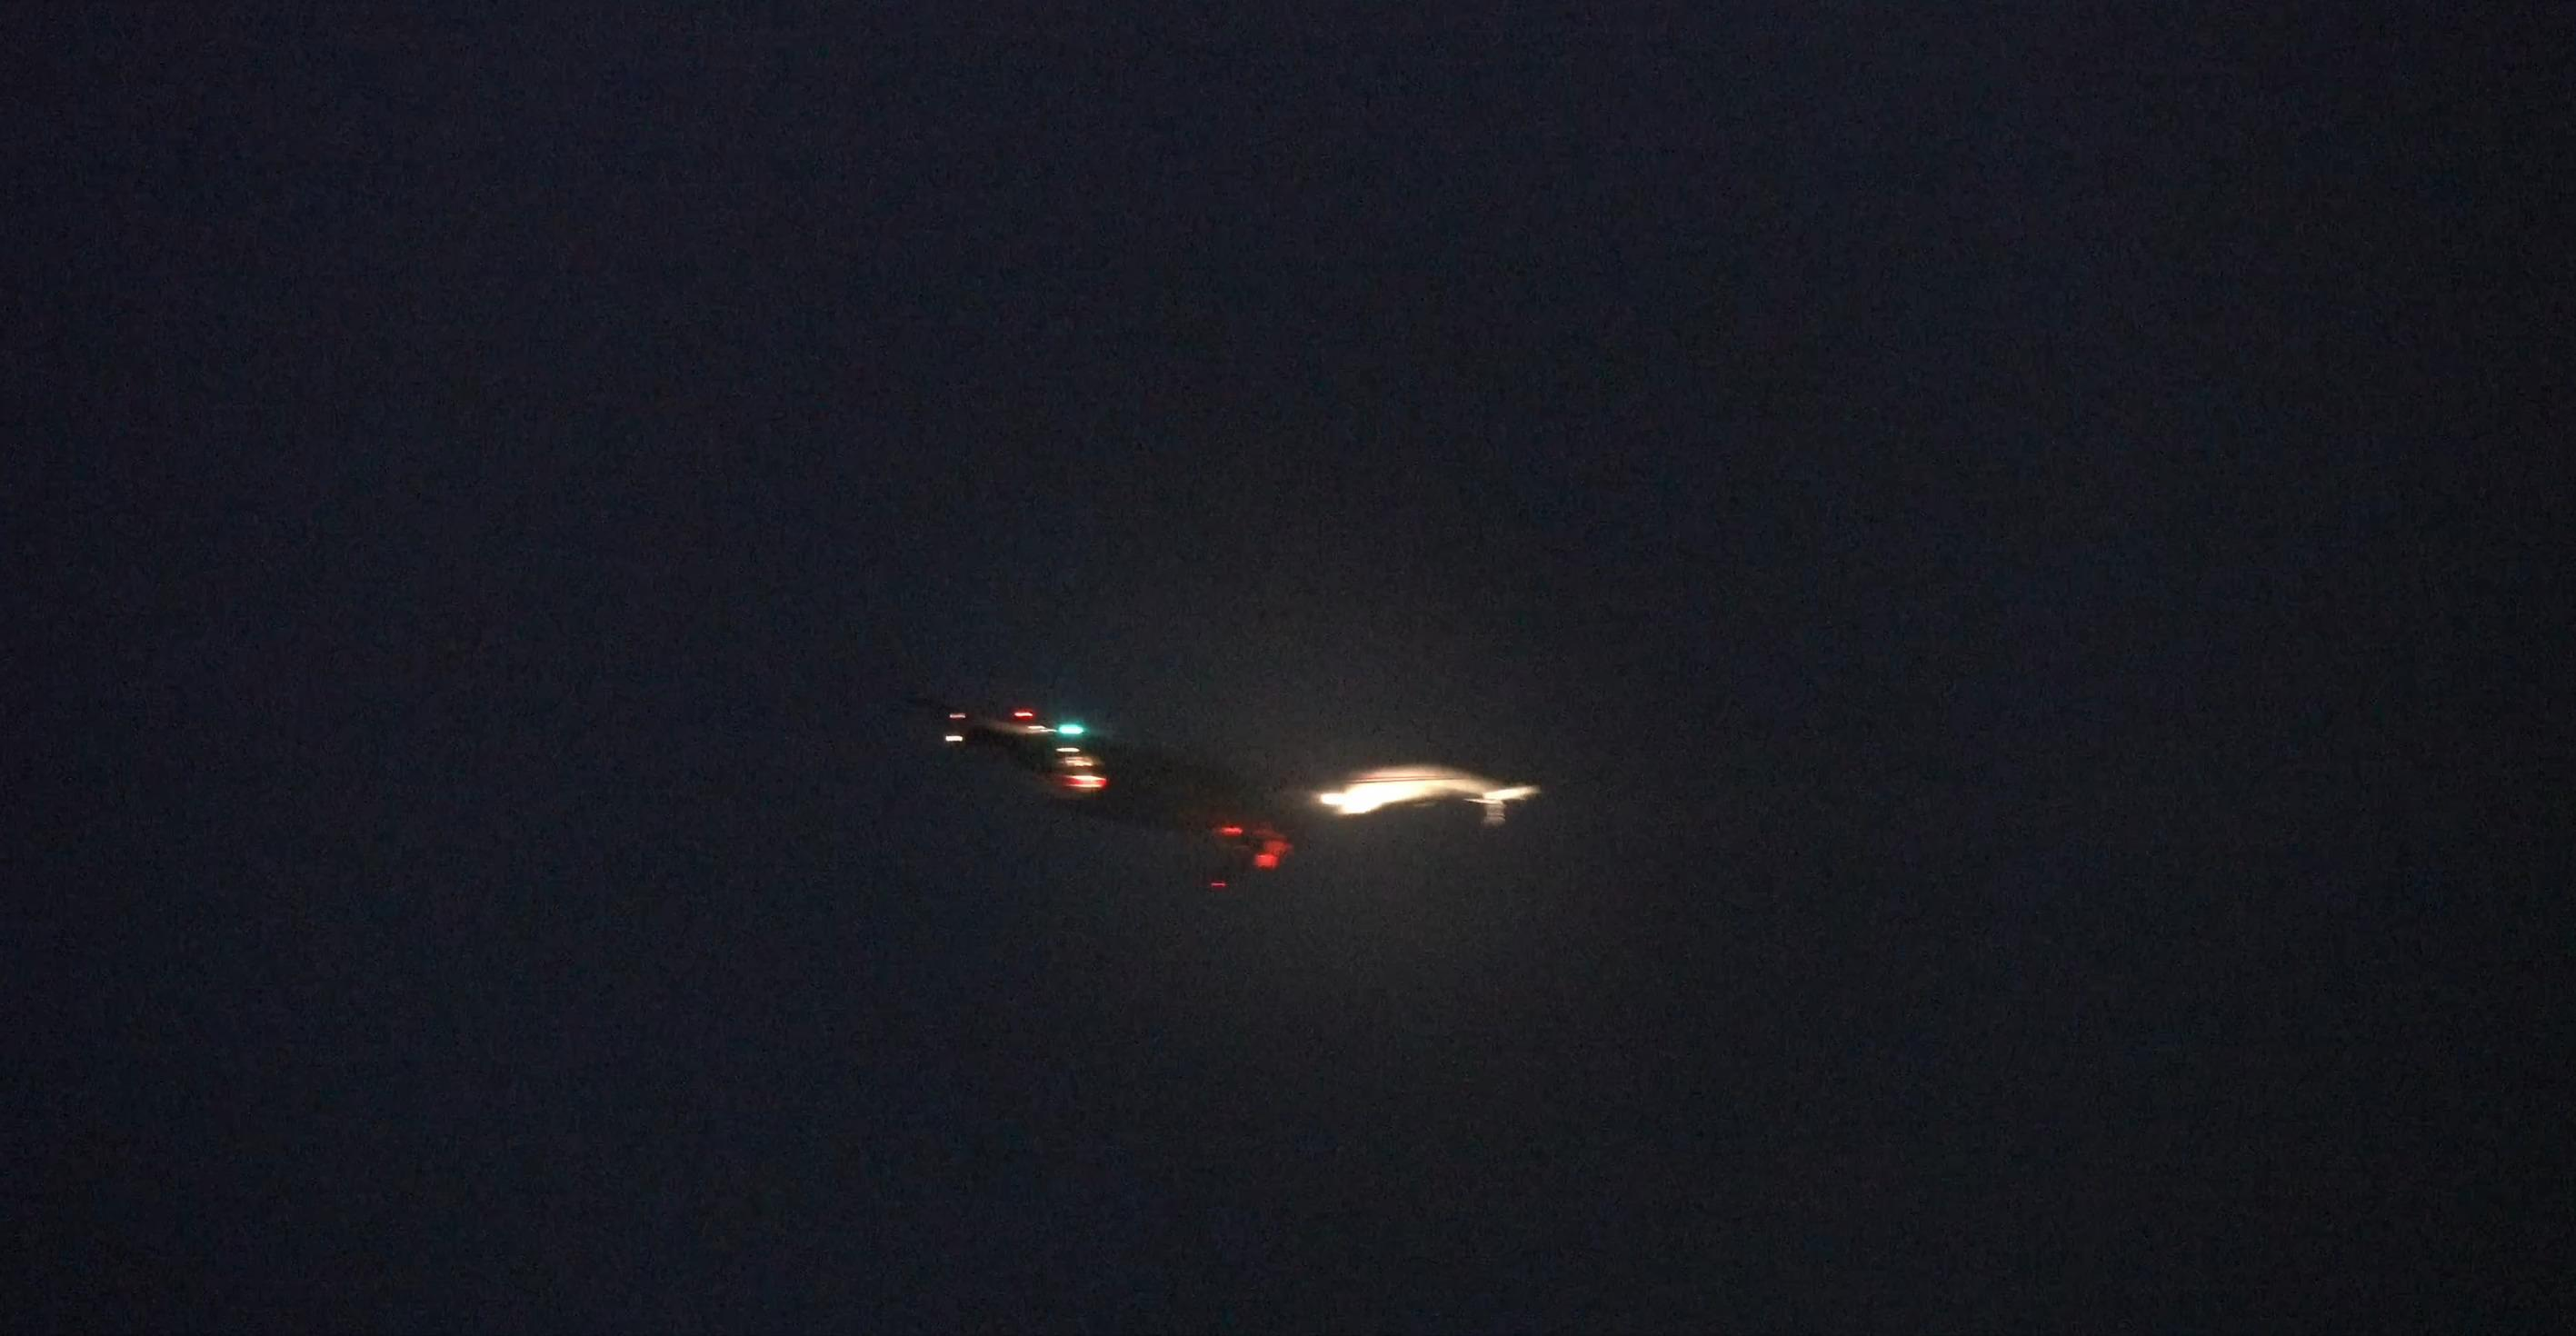Plane: (968, 677, 1521, 864)
